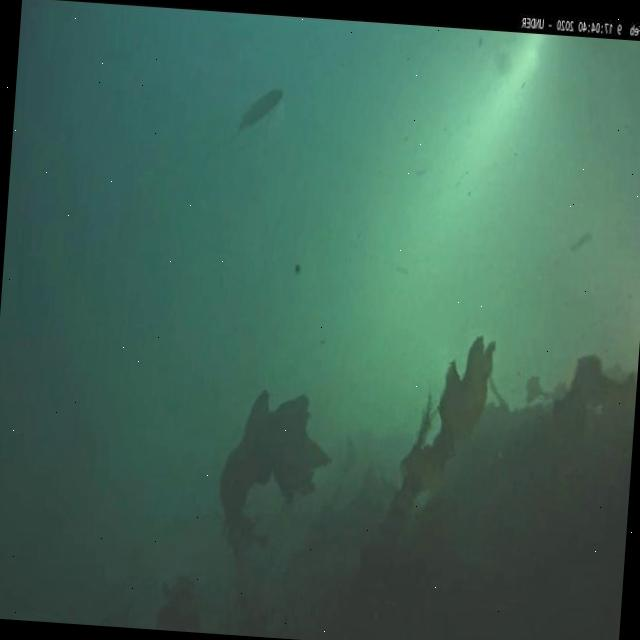fish: (230, 84, 282, 142)
